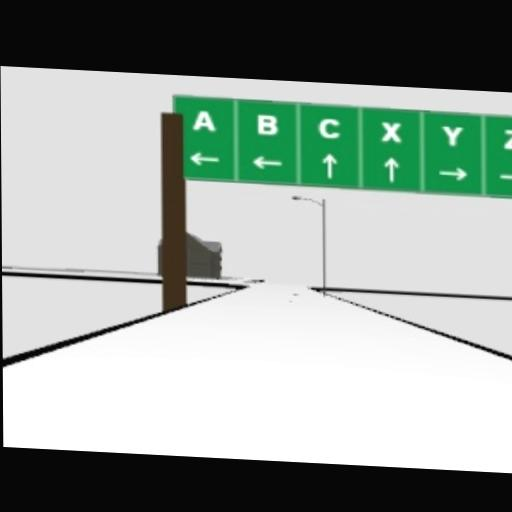A: (192, 108, 216, 131)
B: (255, 113, 277, 135)
C: (317, 116, 339, 138)
Left: (250, 153, 283, 169), (189, 150, 220, 165)
Right: (438, 165, 467, 180), (498, 168, 512, 183)
Straight: (382, 155, 398, 182), (320, 151, 336, 177)
X: (380, 119, 401, 141)
Y: (441, 123, 463, 145)
Z: (503, 127, 512, 148)
